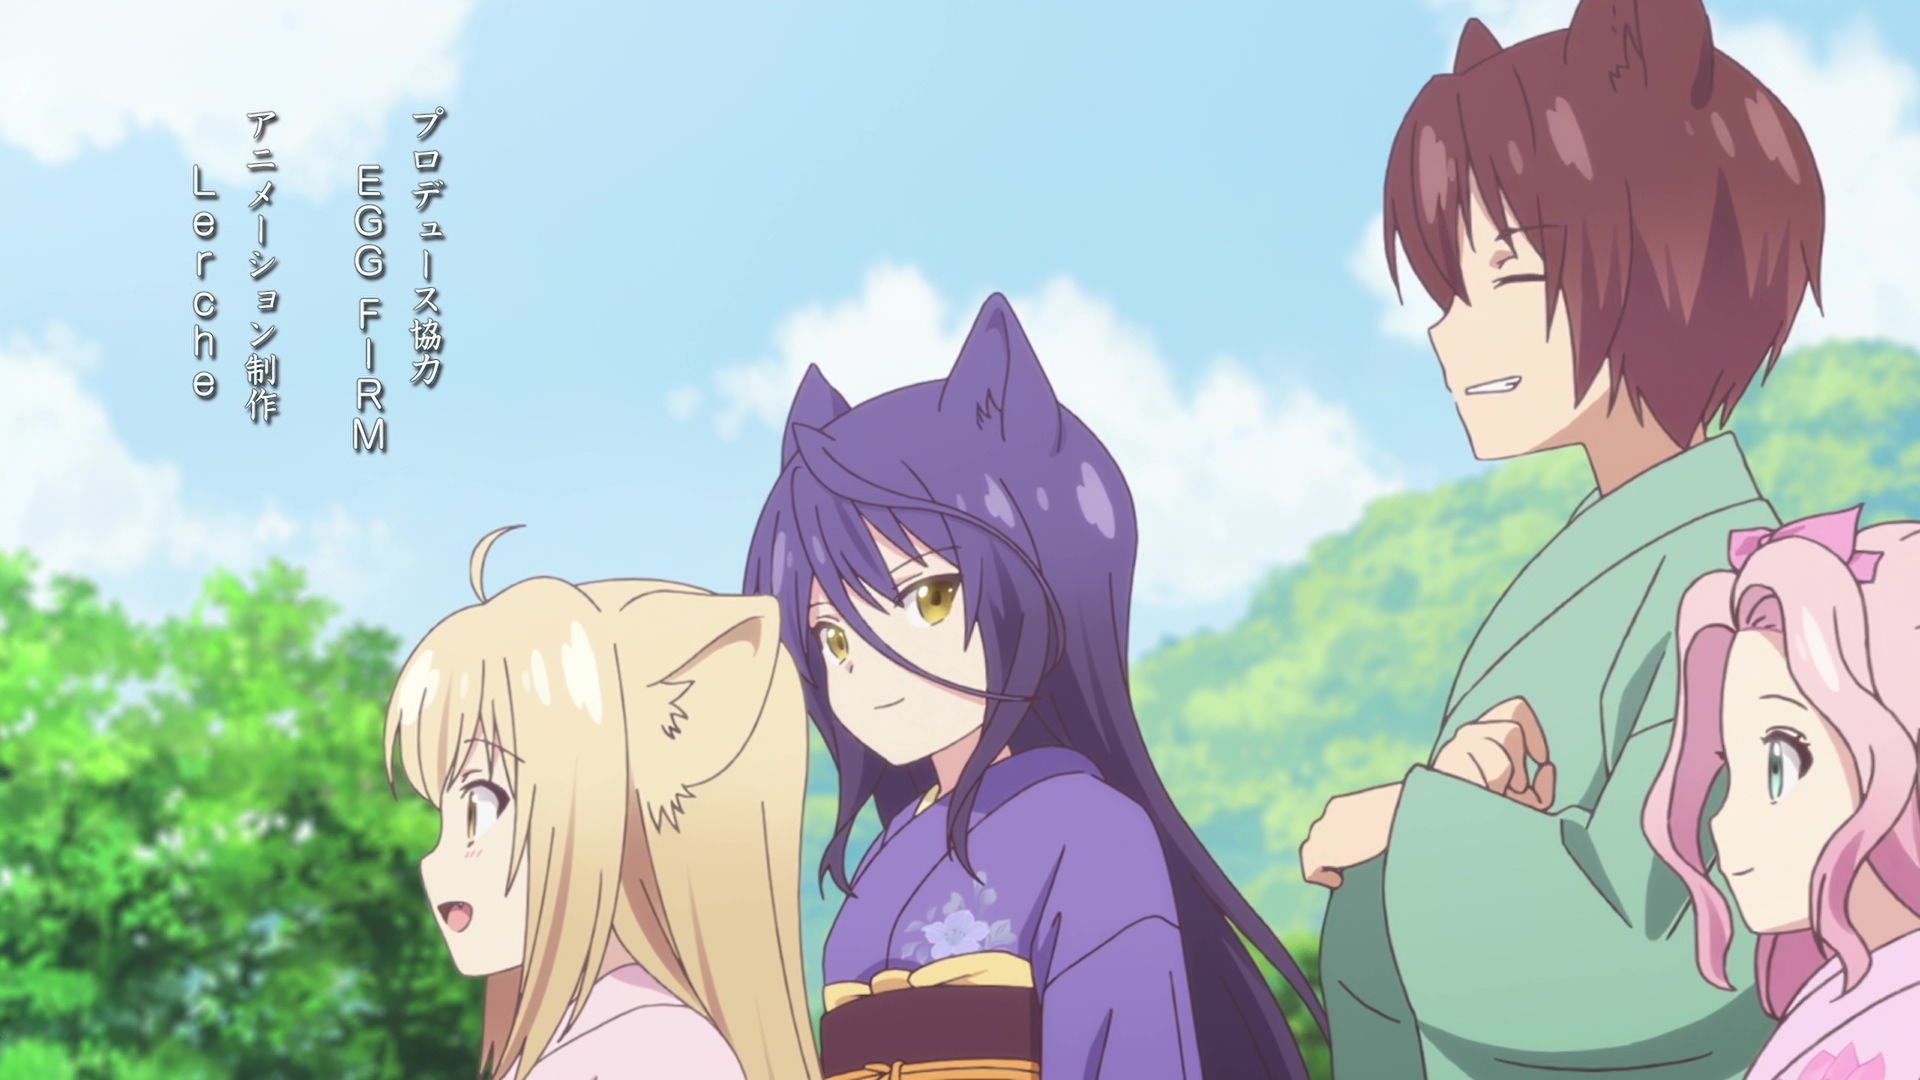枣: (1299, 1, 1826, 1080)
柚: (381, 524, 823, 1080)
皋: (742, 291, 1332, 1080)
莲: (1640, 505, 1920, 1080)
